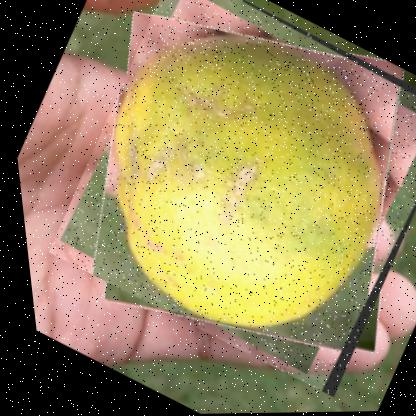orange: (19, 0, 415, 402)
